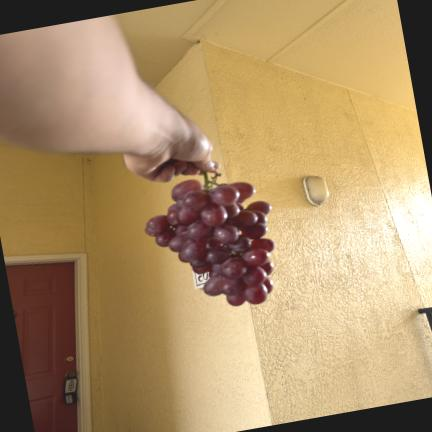grape_cluster: (145, 173, 275, 306)
